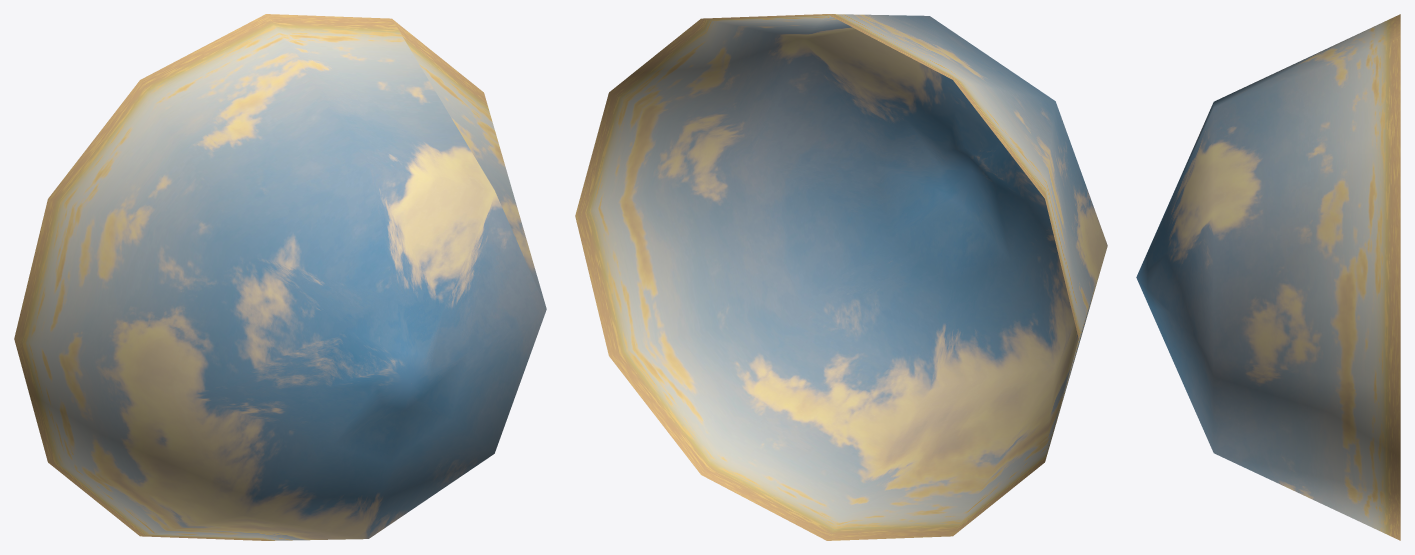
The model's file is sky_orange.obj.
The picture shows the model from 3 angles, left to right: view 1: azimuth 30°, elevation 25°; view 2: azimuth 150°, elevation 25°; view 3: azimuth 270°, elevation 25°; orthographic projection. The views are drawn at different scales.
Parts seen in each view (by area): view 1: sky; view 2: sky; view 3: sky.
Boxes of the visible parts, x1=… form: sky: x1=14, y1=14, x2=546, y2=540; sky: x1=575, y1=14, x2=1107, y2=540; sky: x1=1136, y1=14, x2=1400, y2=540.
Bounding box in the file's own units: 200 × 200 × 100.
Materials: 1 (1 with a texture image).
